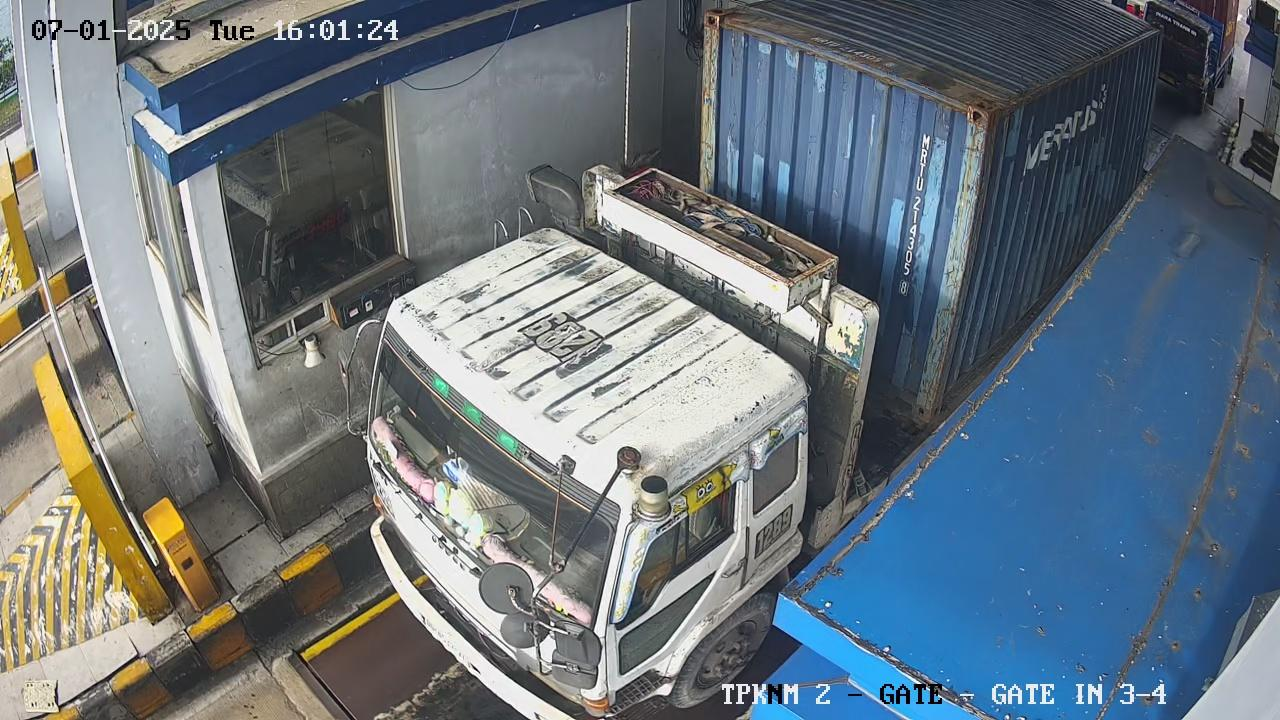Container_ID_Vertikal: (892, 132, 939, 297)
